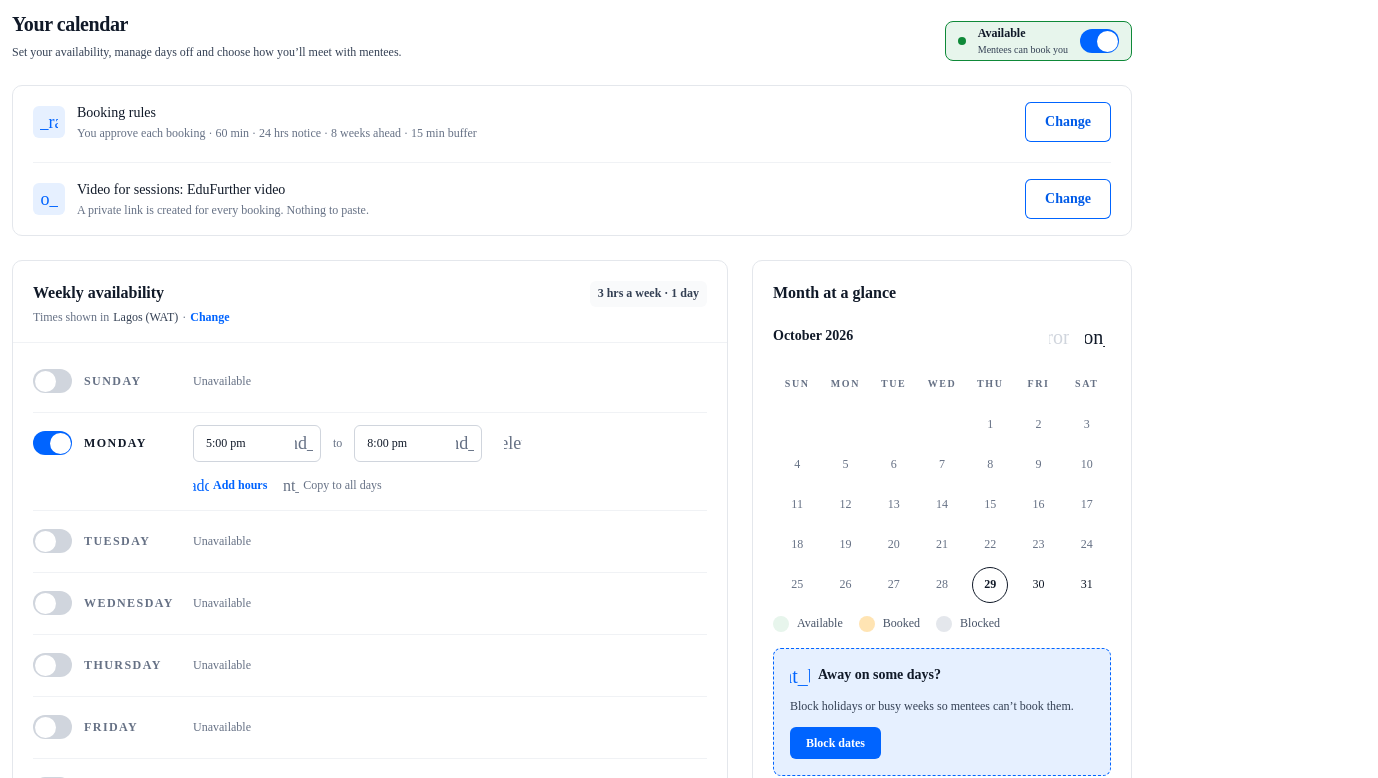
Test: CalendarScreen › a failed save keeps the edits and says so
This screenshot has width=1378, height=778.
Click the switch named "Tuesday" next to "Tuesday" at (52, 542), box [33, 530, 72, 554]
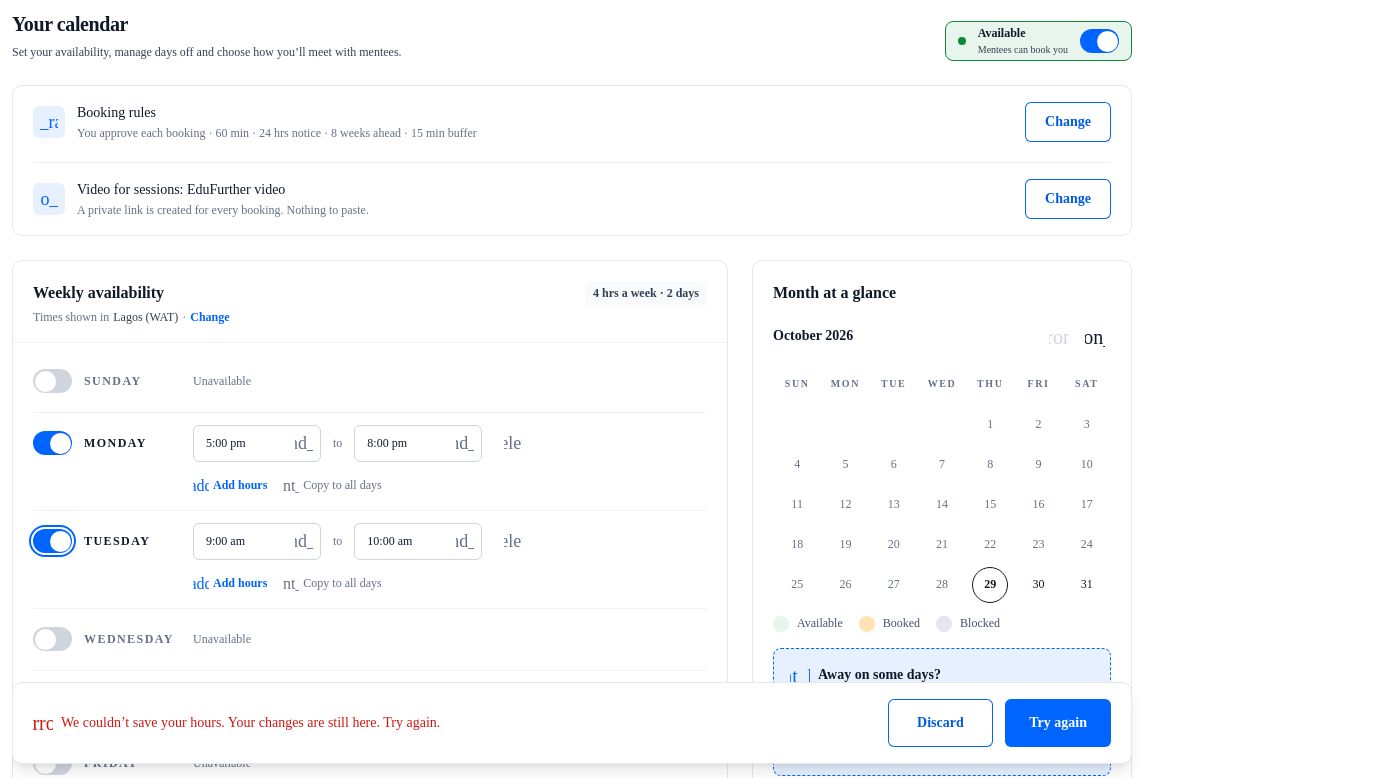
Now the message shows "We couldn’t save your hours. Your changes are still here. Try again.", box [61, 715, 440, 730]
Now the button "Try again" is shown, box [1005, 699, 1111, 747]
